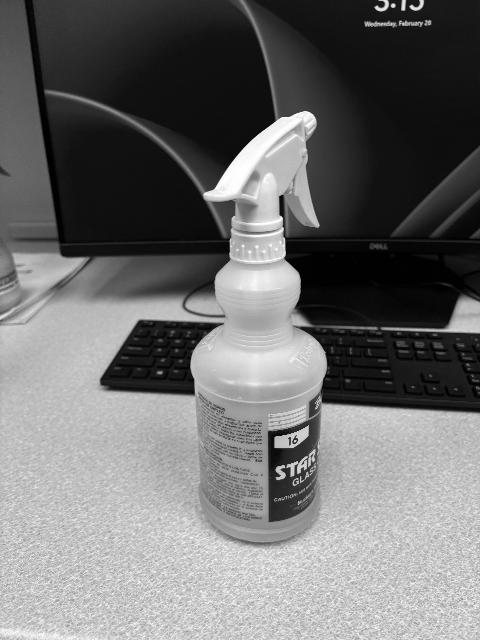StarSpray: (190, 112, 327, 548)
